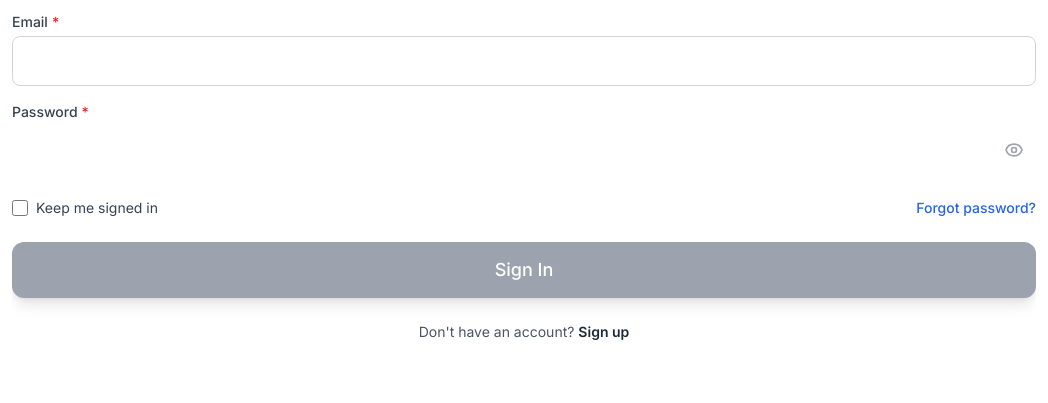
Test: LoginForm › clears general error when form is resubmitted
# First submission with valid data but wrong credentials
Step 1. Type "test@example.com" into the field labelled "Email*" → (524, 61), box [12,36,1036,86]
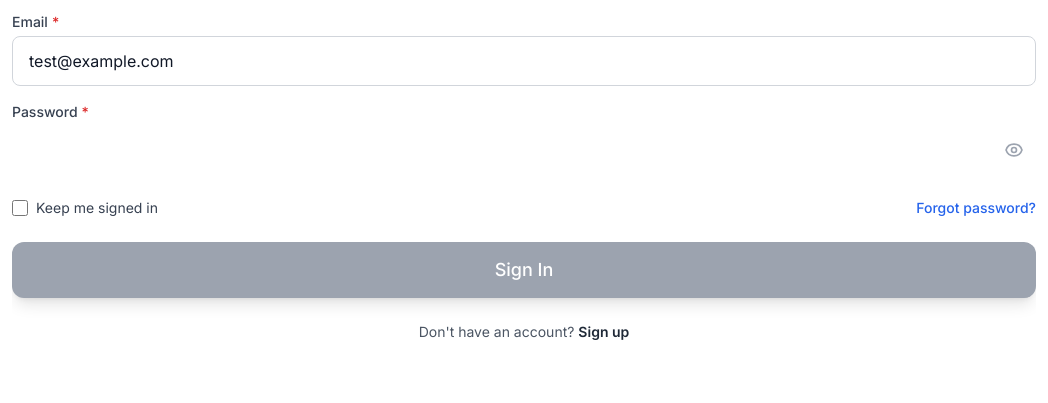
Step 2. Type "password123" into the password field labelled "Password*" → (524, 150), box [12,126,1036,174]
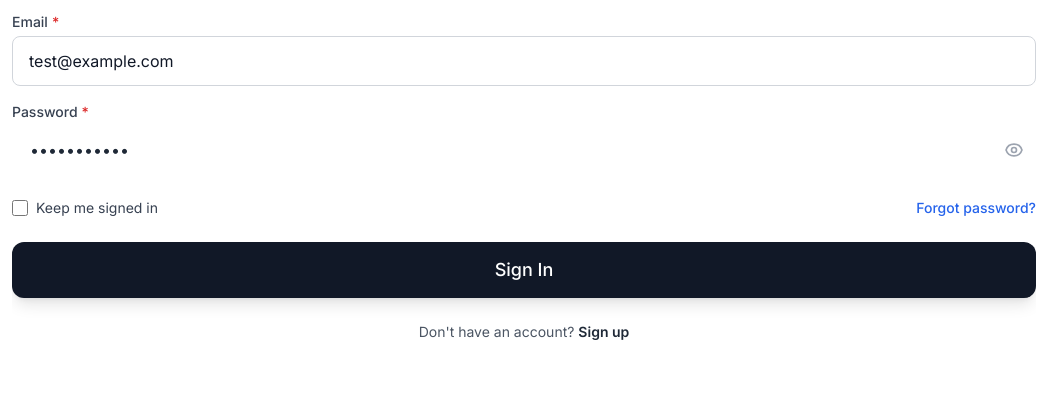
Step 3. Submit the form
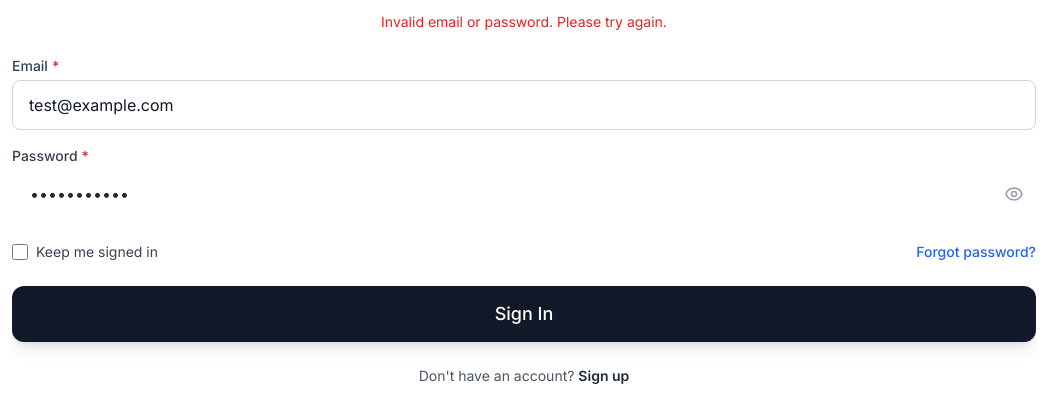
Check: the text "Invalid email or password. Please try again." is shown, box [381,13,667,30]
# Second submission should clear the error
Step 4. Submit the form
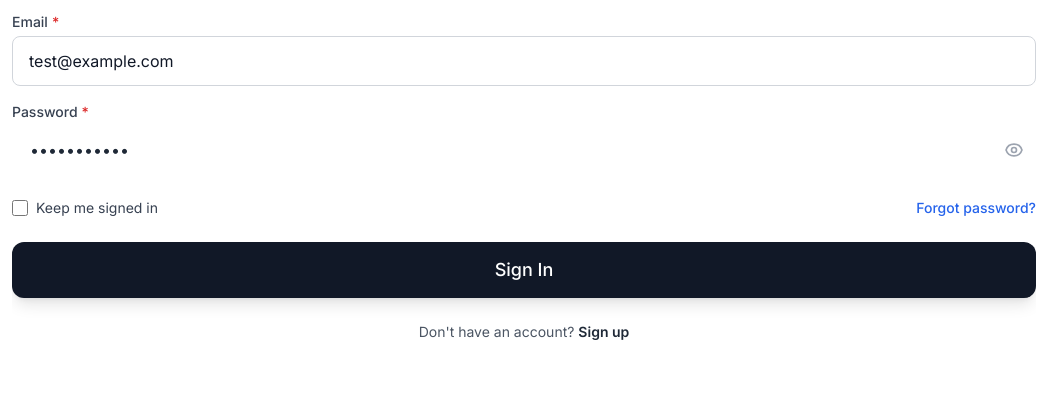
Check: the text "Invalid email or password" is gone
